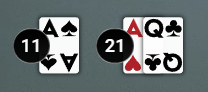a: (37, 16, 61, 40), (122, 16, 144, 40)
q: (142, 16, 166, 41)
